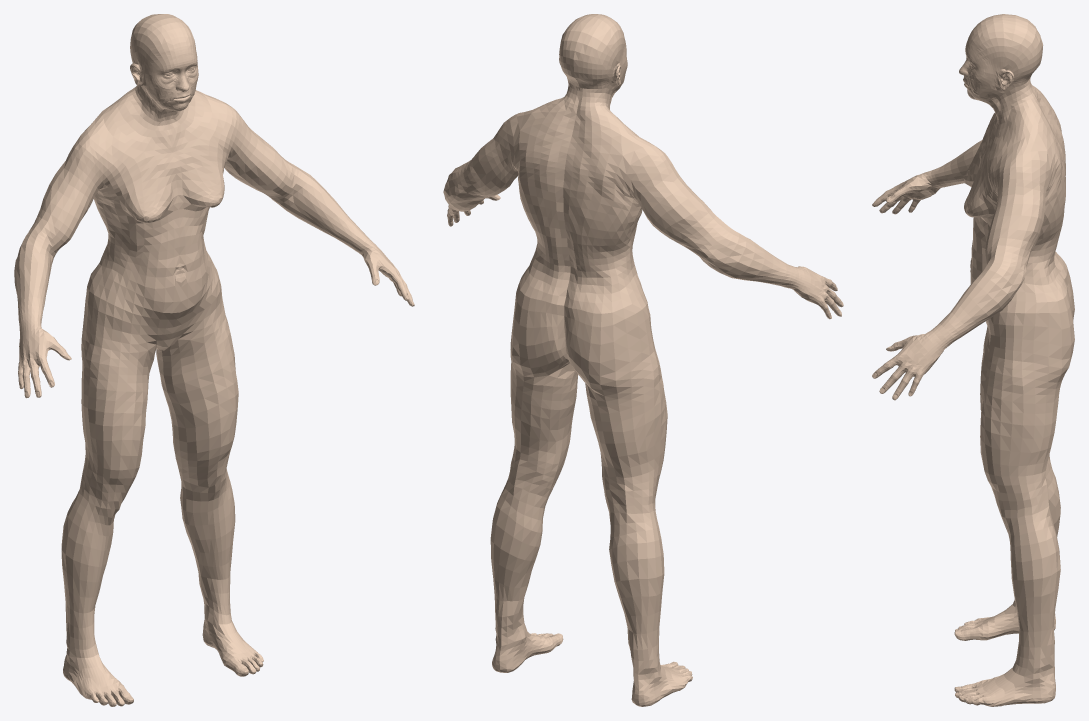
File: female-elder-max-high.glb
The picture shows the model from 3 angles, left to right: view 1: azimuth 30°, elevation 25°; view 2: azimuth 150°, elevation 25°; view 3: azimuth 270°, elevation 25°; orthographic projection.
Visible parts, largest first — view 1: world; view 2: world; view 3: world.
Part boxes in pixels (<box>): world: <box>14,14,414,706</box>; world: <box>443,14,843,706</box>; world: <box>872,14,1074,706</box>.
Bounding box in the file's own units: 1.18 × 1.91 × 0.5393.
